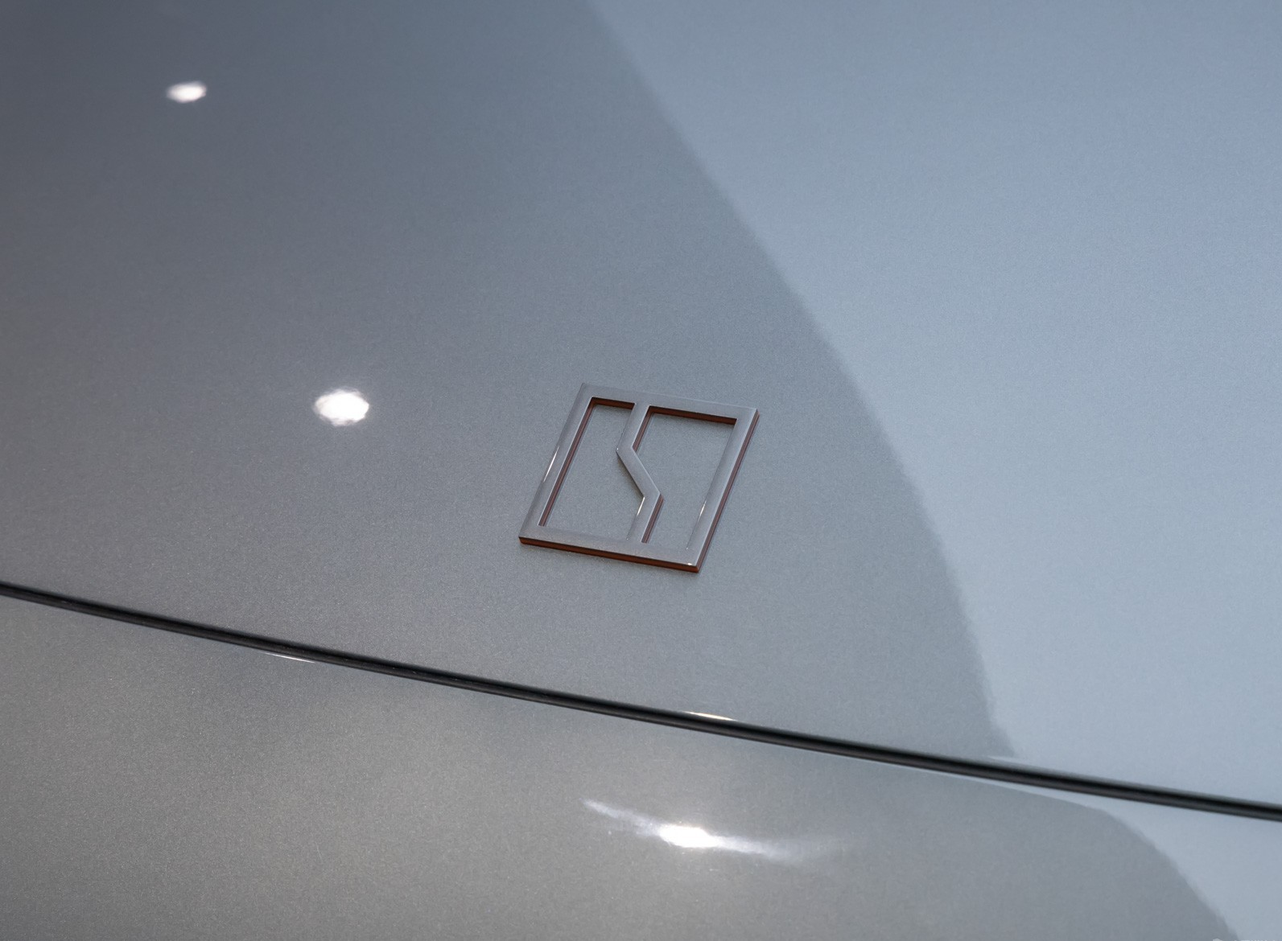ZEEKR: (519, 384, 758, 571)
